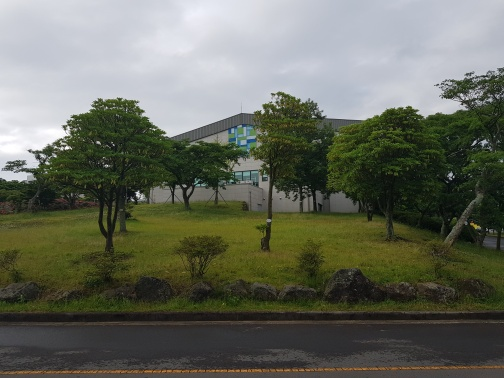Gym: (159, 108, 358, 217), (226, 123, 260, 158)
